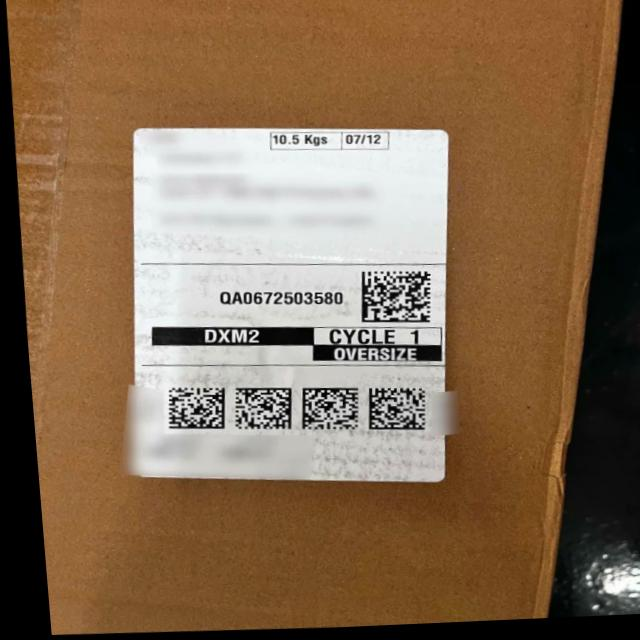datamatrix: (352, 272, 431, 329), (226, 385, 290, 436), (157, 385, 223, 434), (358, 387, 424, 434), (293, 387, 356, 436)
